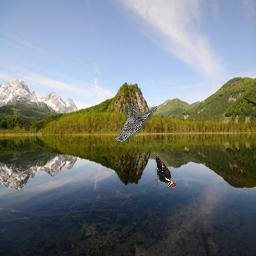Sparrow: (115, 104, 157, 143)
Woodpecker: (156, 156, 177, 189)
